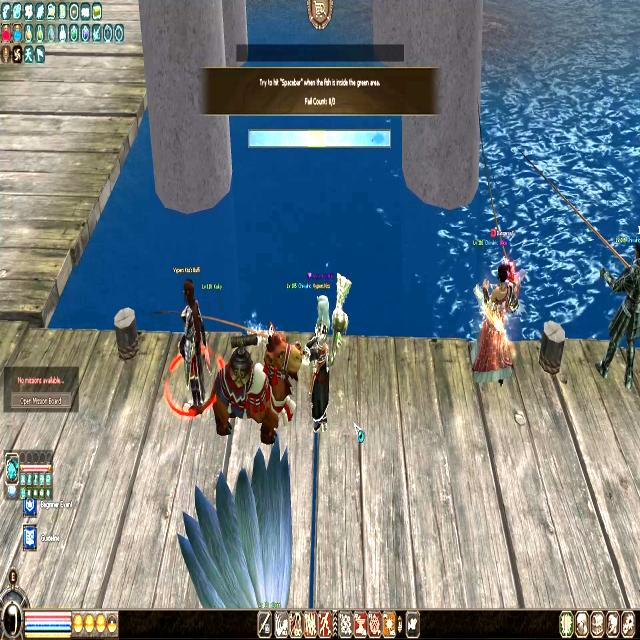fishes: (370, 130, 385, 148)
